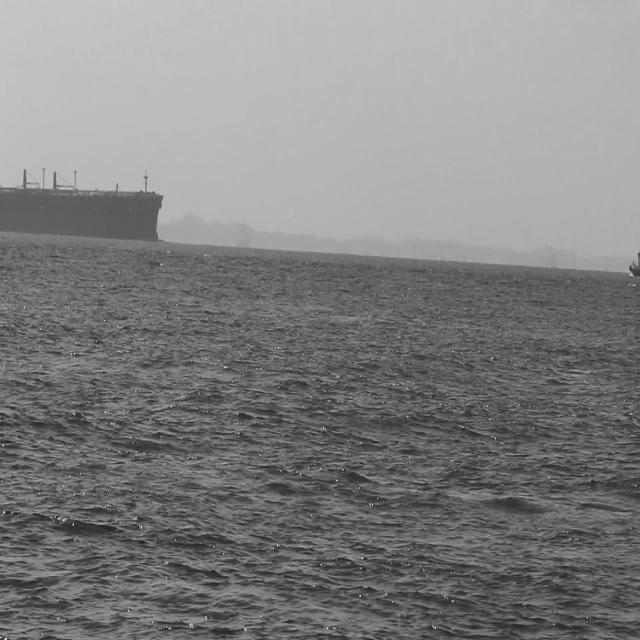ship: (1, 181, 168, 248), (628, 264, 639, 299)
